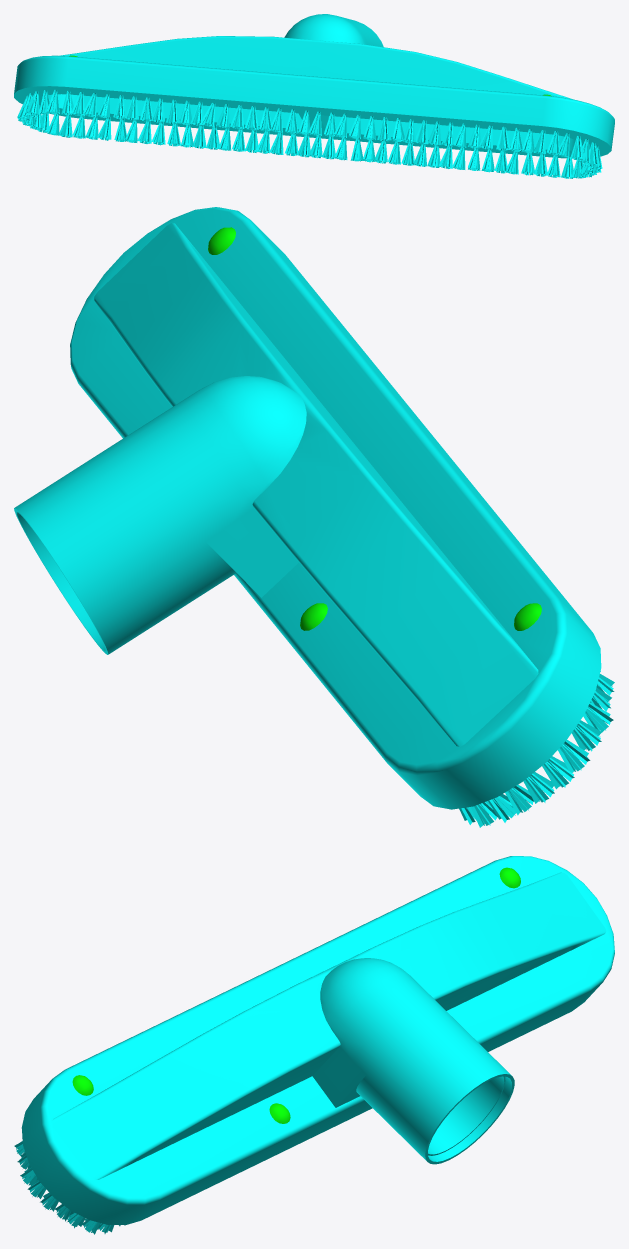
The model's file is Vacuum_Handle2.fbx.
3 renders of one model, top to bottom at view 1: azimuth 30°, elevation 25°; view 2: azimuth 150°, elevation 25°; view 3: azimuth 270°, elevation 25°, orthographic. The views are drawn at different scales.
Parts seen in each view (by area): view 1: SM_Vacuum_Cleaner_01_LOD0; view 2: SM_Vacuum_Cleaner_01_LOD0; view 3: SM_Vacuum_Cleaner_01_LOD0.
Boxes of the visible parts, <box> form: SM_Vacuum_Cleaner_01_LOD0: <box>14,14,614,178</box>; SM_Vacuum_Cleaner_01_LOD0: <box>14,207,614,827</box>; SM_Vacuum_Cleaner_01_LOD0: <box>14,856,614,1234</box>.
Bounding box in the file's own units: 19.12 × 5.46 × 17.29.
